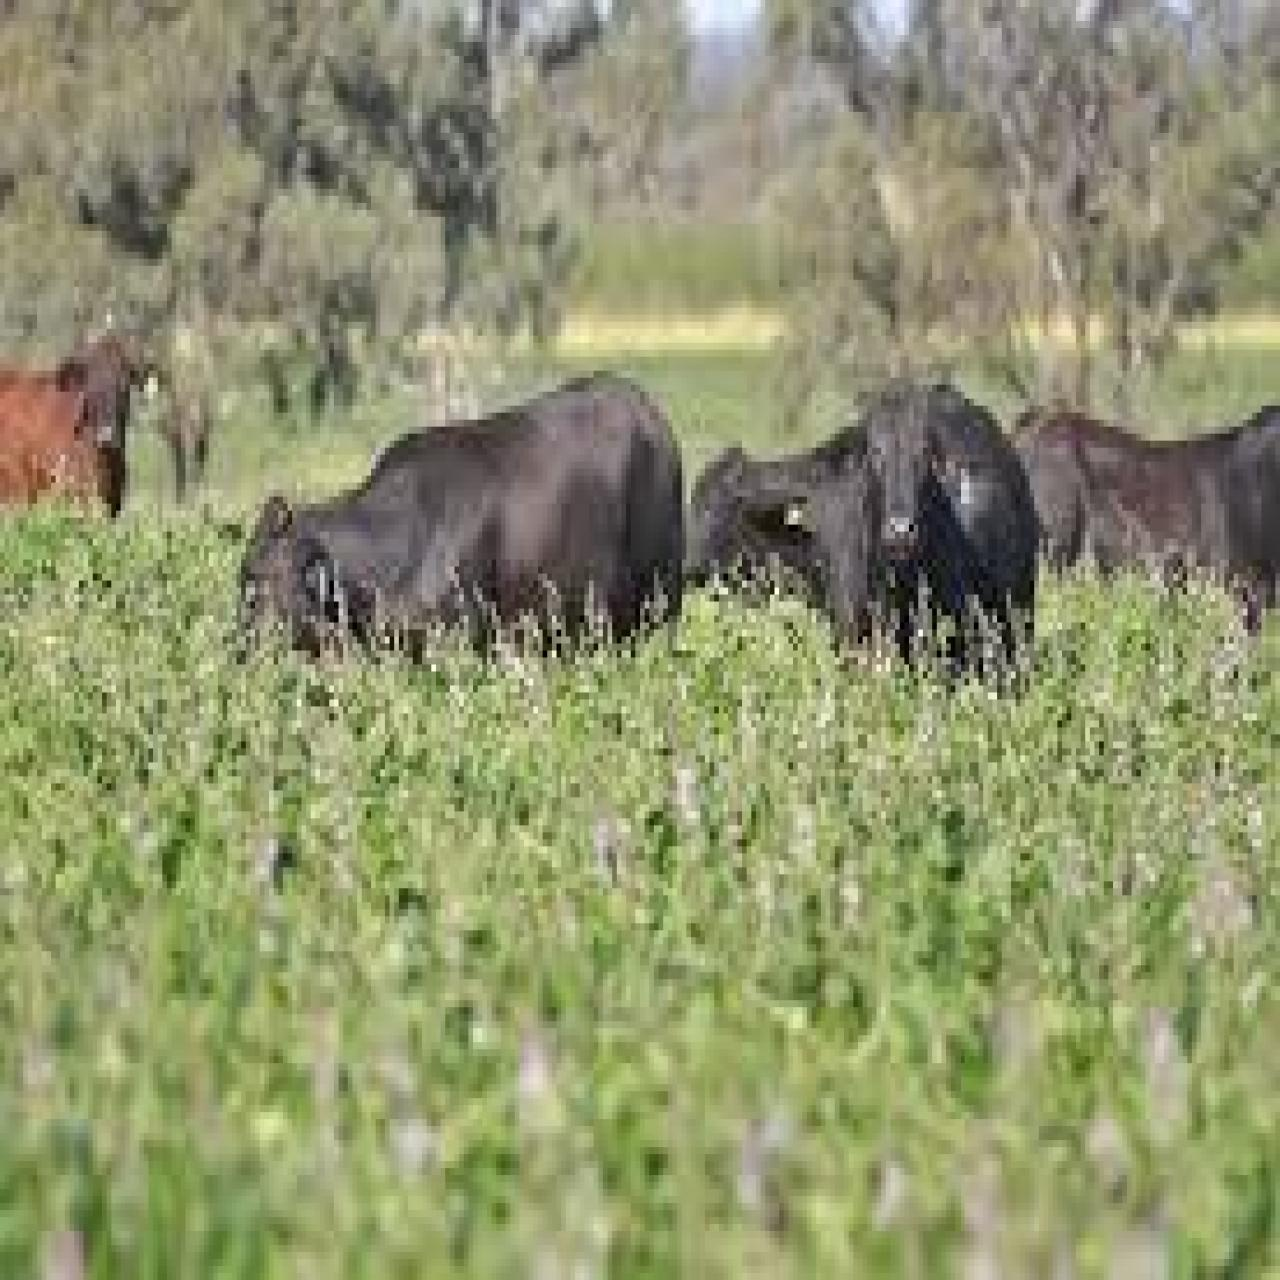cow: (234, 367, 685, 654), (823, 367, 1032, 661), (1029, 399, 1280, 594), (0, 328, 172, 517), (682, 420, 867, 594)
